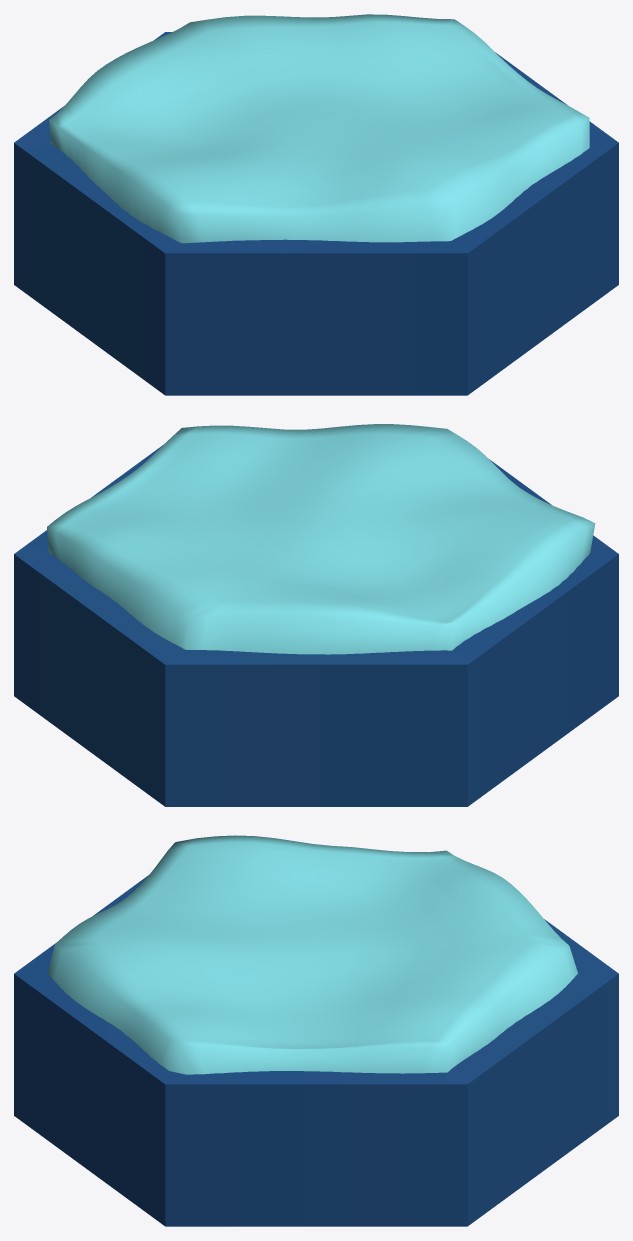
The model's file is Water_Hex.fbx.
3 views of the same model, one above another, from view 1: azimuth 30°, elevation 25°; view 2: azimuth 150°, elevation 25°; view 3: azimuth 270°, elevation 25° (orthographic).
Parts seen in each view (by area): view 1: Water_Hex2.001, Grass2.001; view 2: Water_Hex2.001, Grass2.001; view 3: Water_Hex2.001, Grass2.001.
Part boxes in pixels (x1,y1,x2,y2): Water_Hex2.001: (14,32,618,395); Grass2.001: (49,14,589,243); Water_Hex2.001: (14,445,618,806); Grass2.001: (47,424,595,654); Water_Hex2.001: (14,875,618,1226); Grass2.001: (47,835,577,1074).
Bounding box in the file's own units: 2005 × 762 × 2315.
Materials: 1 (1 with a texture image).
